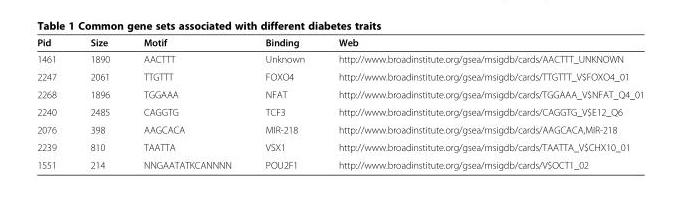table: (36, 36, 643, 170)
table column: (320, 36, 643, 170), (126, 36, 247, 170), (247, 36, 320, 170), (72, 36, 126, 170), (36, 36, 72, 170)
table column header: (36, 36, 643, 50)
table row: (36, 67, 643, 85), (36, 102, 643, 120), (36, 120, 643, 138), (36, 50, 643, 67), (36, 85, 643, 102), (36, 138, 643, 155), (36, 155, 643, 170), (36, 36, 643, 50)
